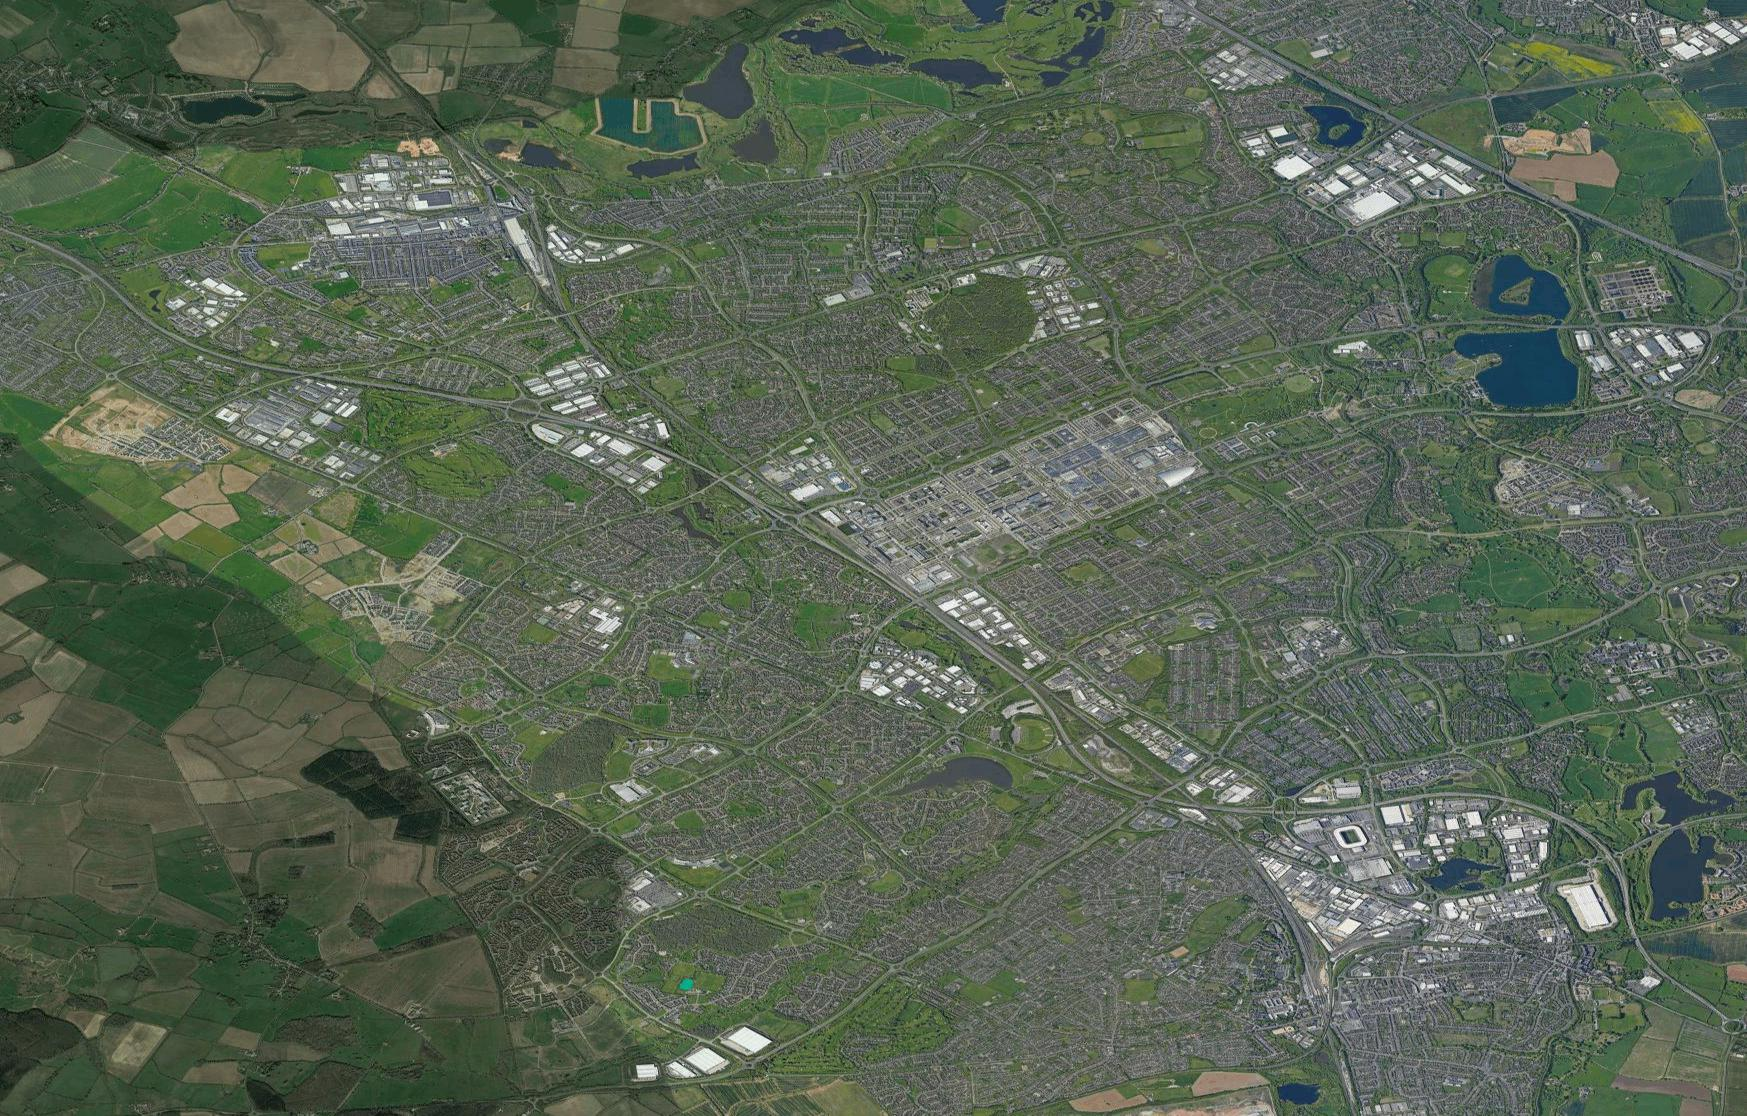industrial: (838, 504, 968, 587), (935, 577, 1042, 665), (858, 634, 969, 715), (763, 437, 856, 504)
motorway: (106, 283, 258, 369), (486, 400, 693, 464), (1626, 917, 1727, 1026), (694, 464, 824, 547), (932, 612, 1045, 703), (258, 363, 488, 403), (1564, 815, 1635, 916), (826, 545, 928, 610), (1, 220, 107, 282), (1038, 699, 1112, 783), (1112, 778, 1264, 817), (1424, 790, 1562, 819), (1268, 795, 1421, 820)
